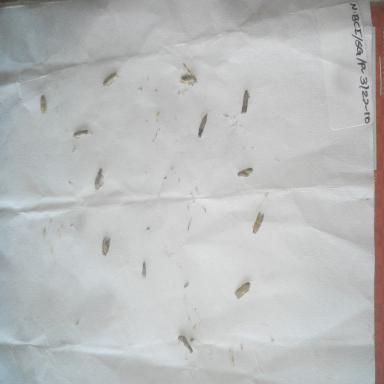pbw: (176, 60, 201, 86), (249, 208, 268, 236), (233, 279, 253, 304), (237, 86, 253, 116), (90, 165, 107, 193), (98, 232, 114, 261), (70, 124, 92, 144), (234, 164, 256, 183), (176, 334, 195, 356), (102, 71, 122, 90), (37, 93, 50, 119), (197, 113, 210, 139), (138, 259, 149, 282)
